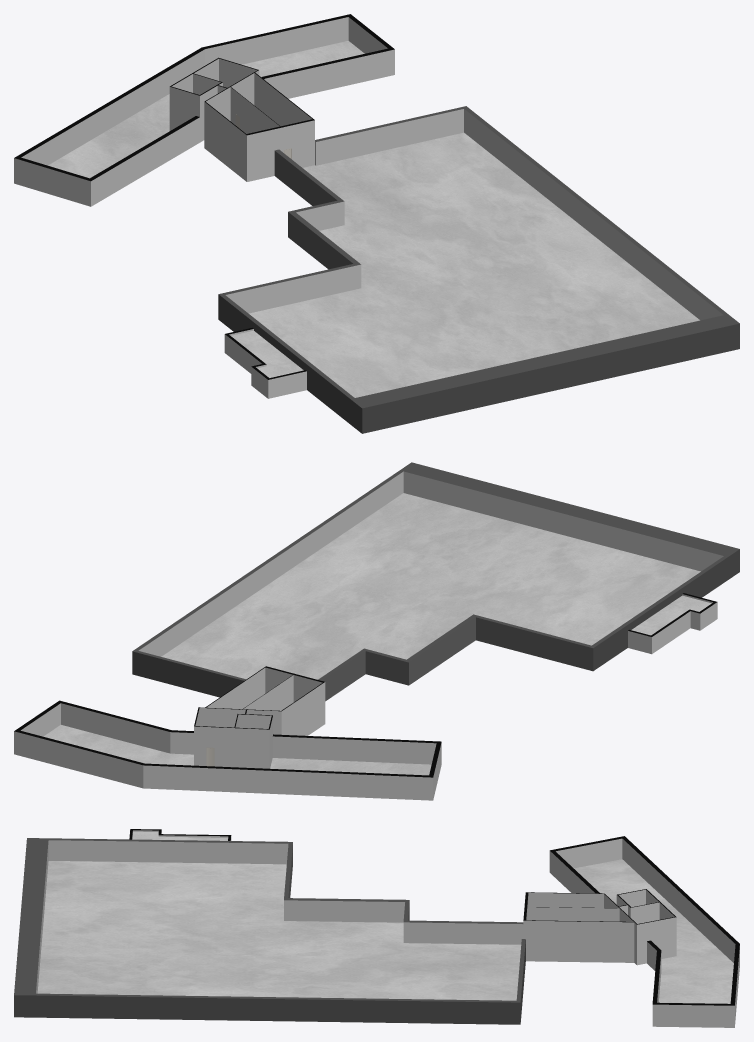
3 views of the same model, one above another, from view 1: azimuth 30°, elevation 25°; view 2: azimuth 150°, elevation 25°; view 3: azimuth 270°, elevation 25° (orthographic). The views are drawn at different scales.
Parts seen in each view (by area): view 1: A3_r_바닥, A3_r_벽; view 2: A3_r_벽, A3_r_바닥; view 3: A3_r_바닥, A3_r_벽.
Part boxes in pixels (<box>): A3_r_바닥: <box>48,40,699,397</box>; A3_r_벽: <box>14,14,739,433</box>; A3_r_벽: <box>14,462,739,800</box>; A3_r_바닥: <box>43,493,711,775</box>; A3_r_바닥: <box>37,831,733,1003</box>; A3_r_벽: <box>14,829,739,1027</box>.
Size of the model in its own units: 46.95 by 4.87 by 78.93.
Materials: 6 (1 with a texture image).
